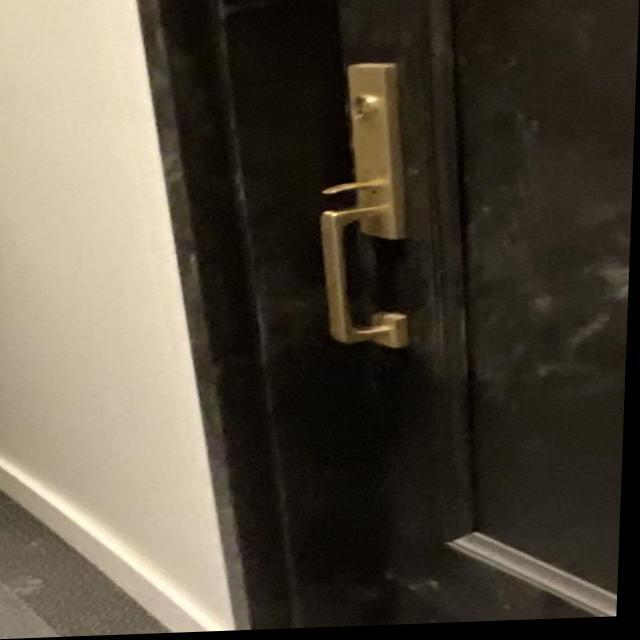door_handle: (292, 200, 437, 363)
